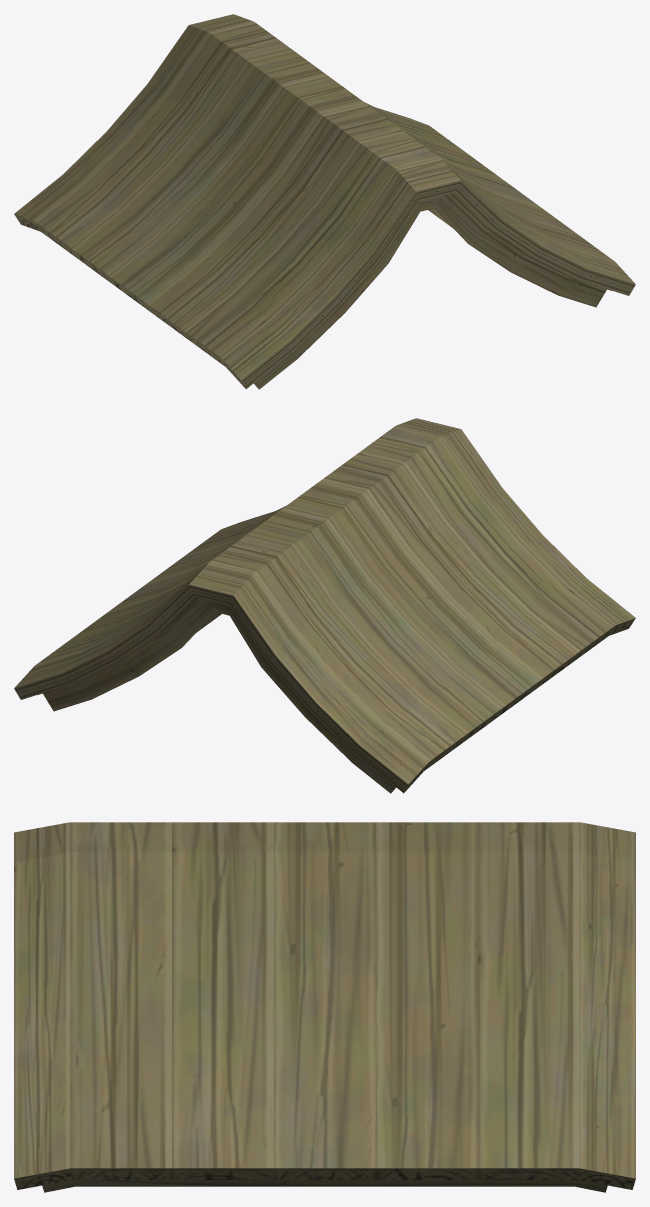
The model's file is SM_Wood_Roof_Small.fbx.
The picture shows the model from 3 angles, top to bottom: view 1: azimuth 30°, elevation 25°; view 2: azimuth 150°, elevation 25°; view 3: azimuth 270°, elevation 25°; orthographic projection. The views are drawn at different scales.
Parts seen in each view (by area): view 1: Wood_roof; view 2: Wood_roof; view 3: Wood_roof.
Part boxes in pixels (box(x1,y1,x2,y2)): Wood_roof: box(14, 14, 635, 389); Wood_roof: box(14, 418, 635, 793); Wood_roof: box(14, 822, 635, 1192).
Size of the model in its own units: 1 by 0.4314 by 1.
